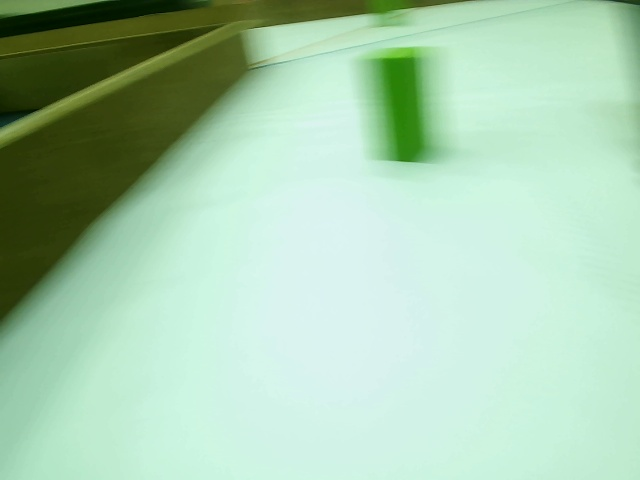green: (355, 45, 444, 165)
